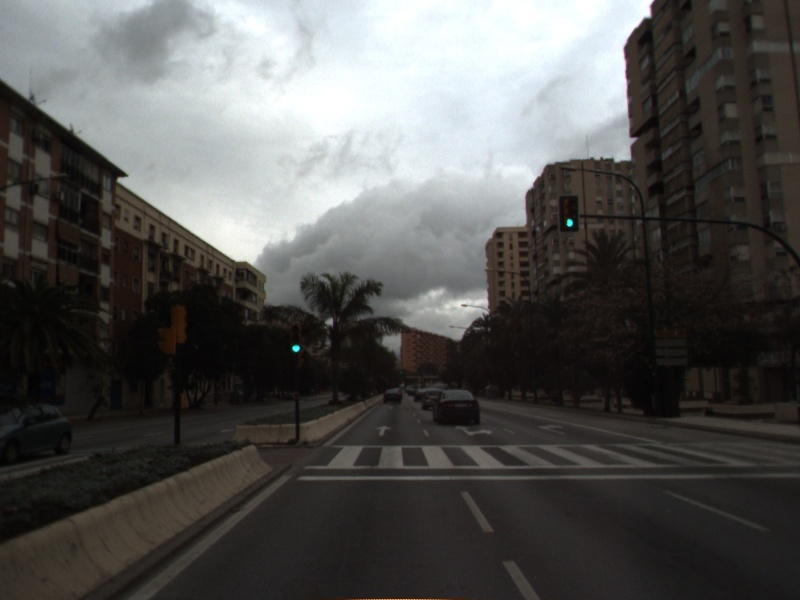RIGHT: (535, 421, 569, 437)
STRAIGHT: (373, 423, 394, 438)
STRAIGHT_RIGHT: (452, 423, 496, 438)
